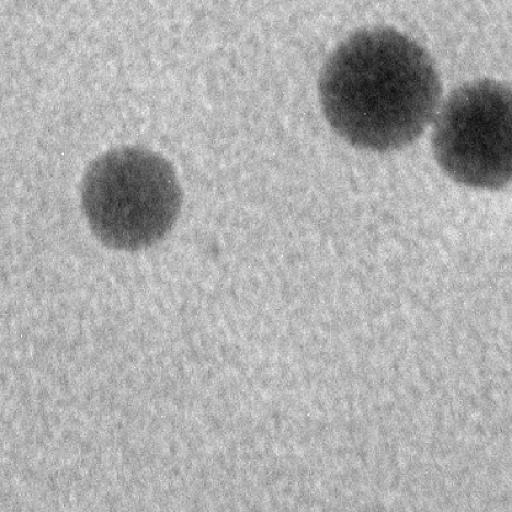Nanoparticles: (316, 28, 446, 153), (79, 148, 186, 251), (429, 78, 511, 190)
